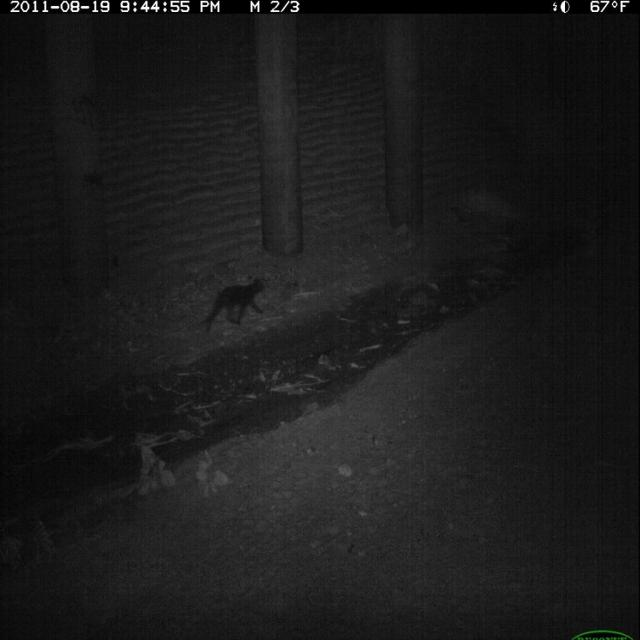cat: (200, 272, 271, 339)
